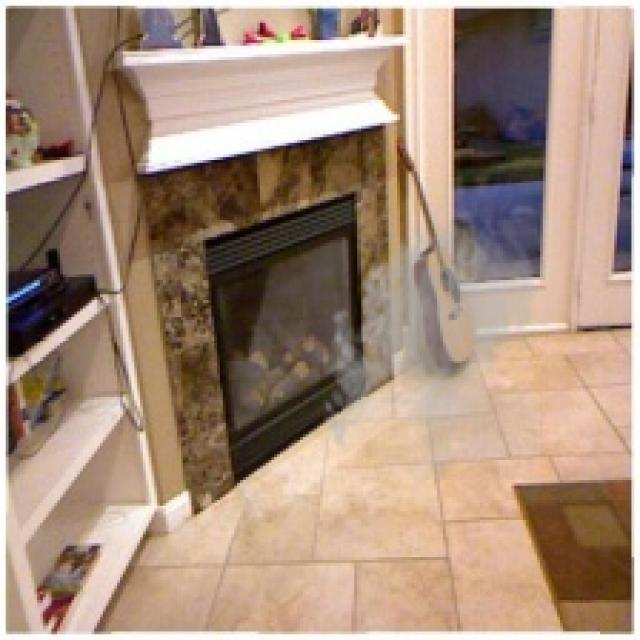smoke: (317, 203, 543, 480)
